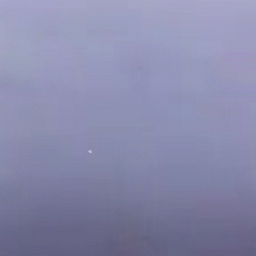Target: (87, 148, 94, 155)
